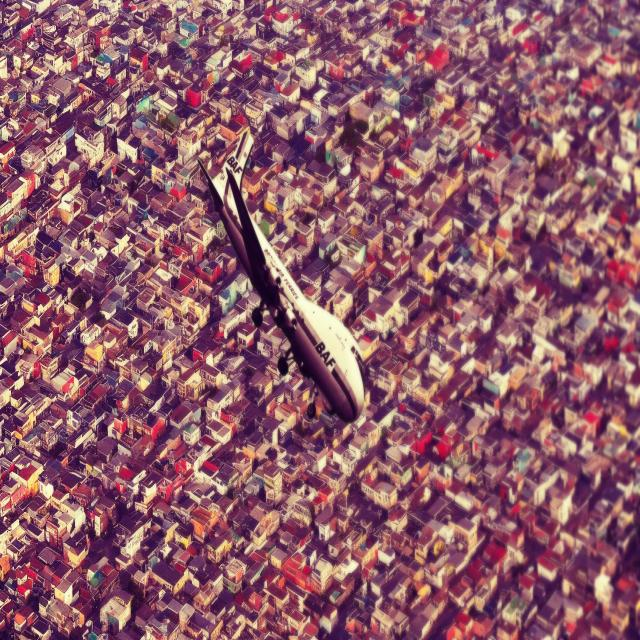airplane: (196, 124, 367, 422)
